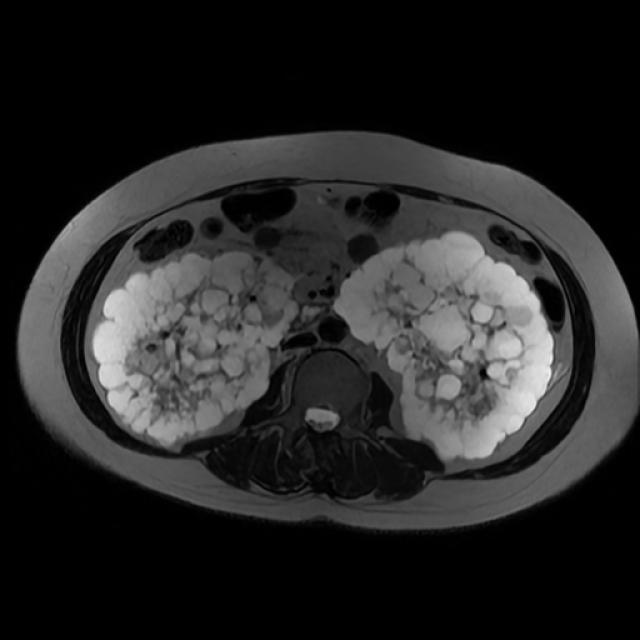sag: (95, 254, 300, 441)
sol: (335, 232, 555, 460)
